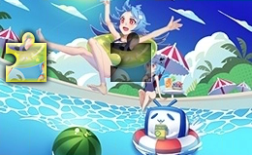gap: (110, 32, 151, 82)
